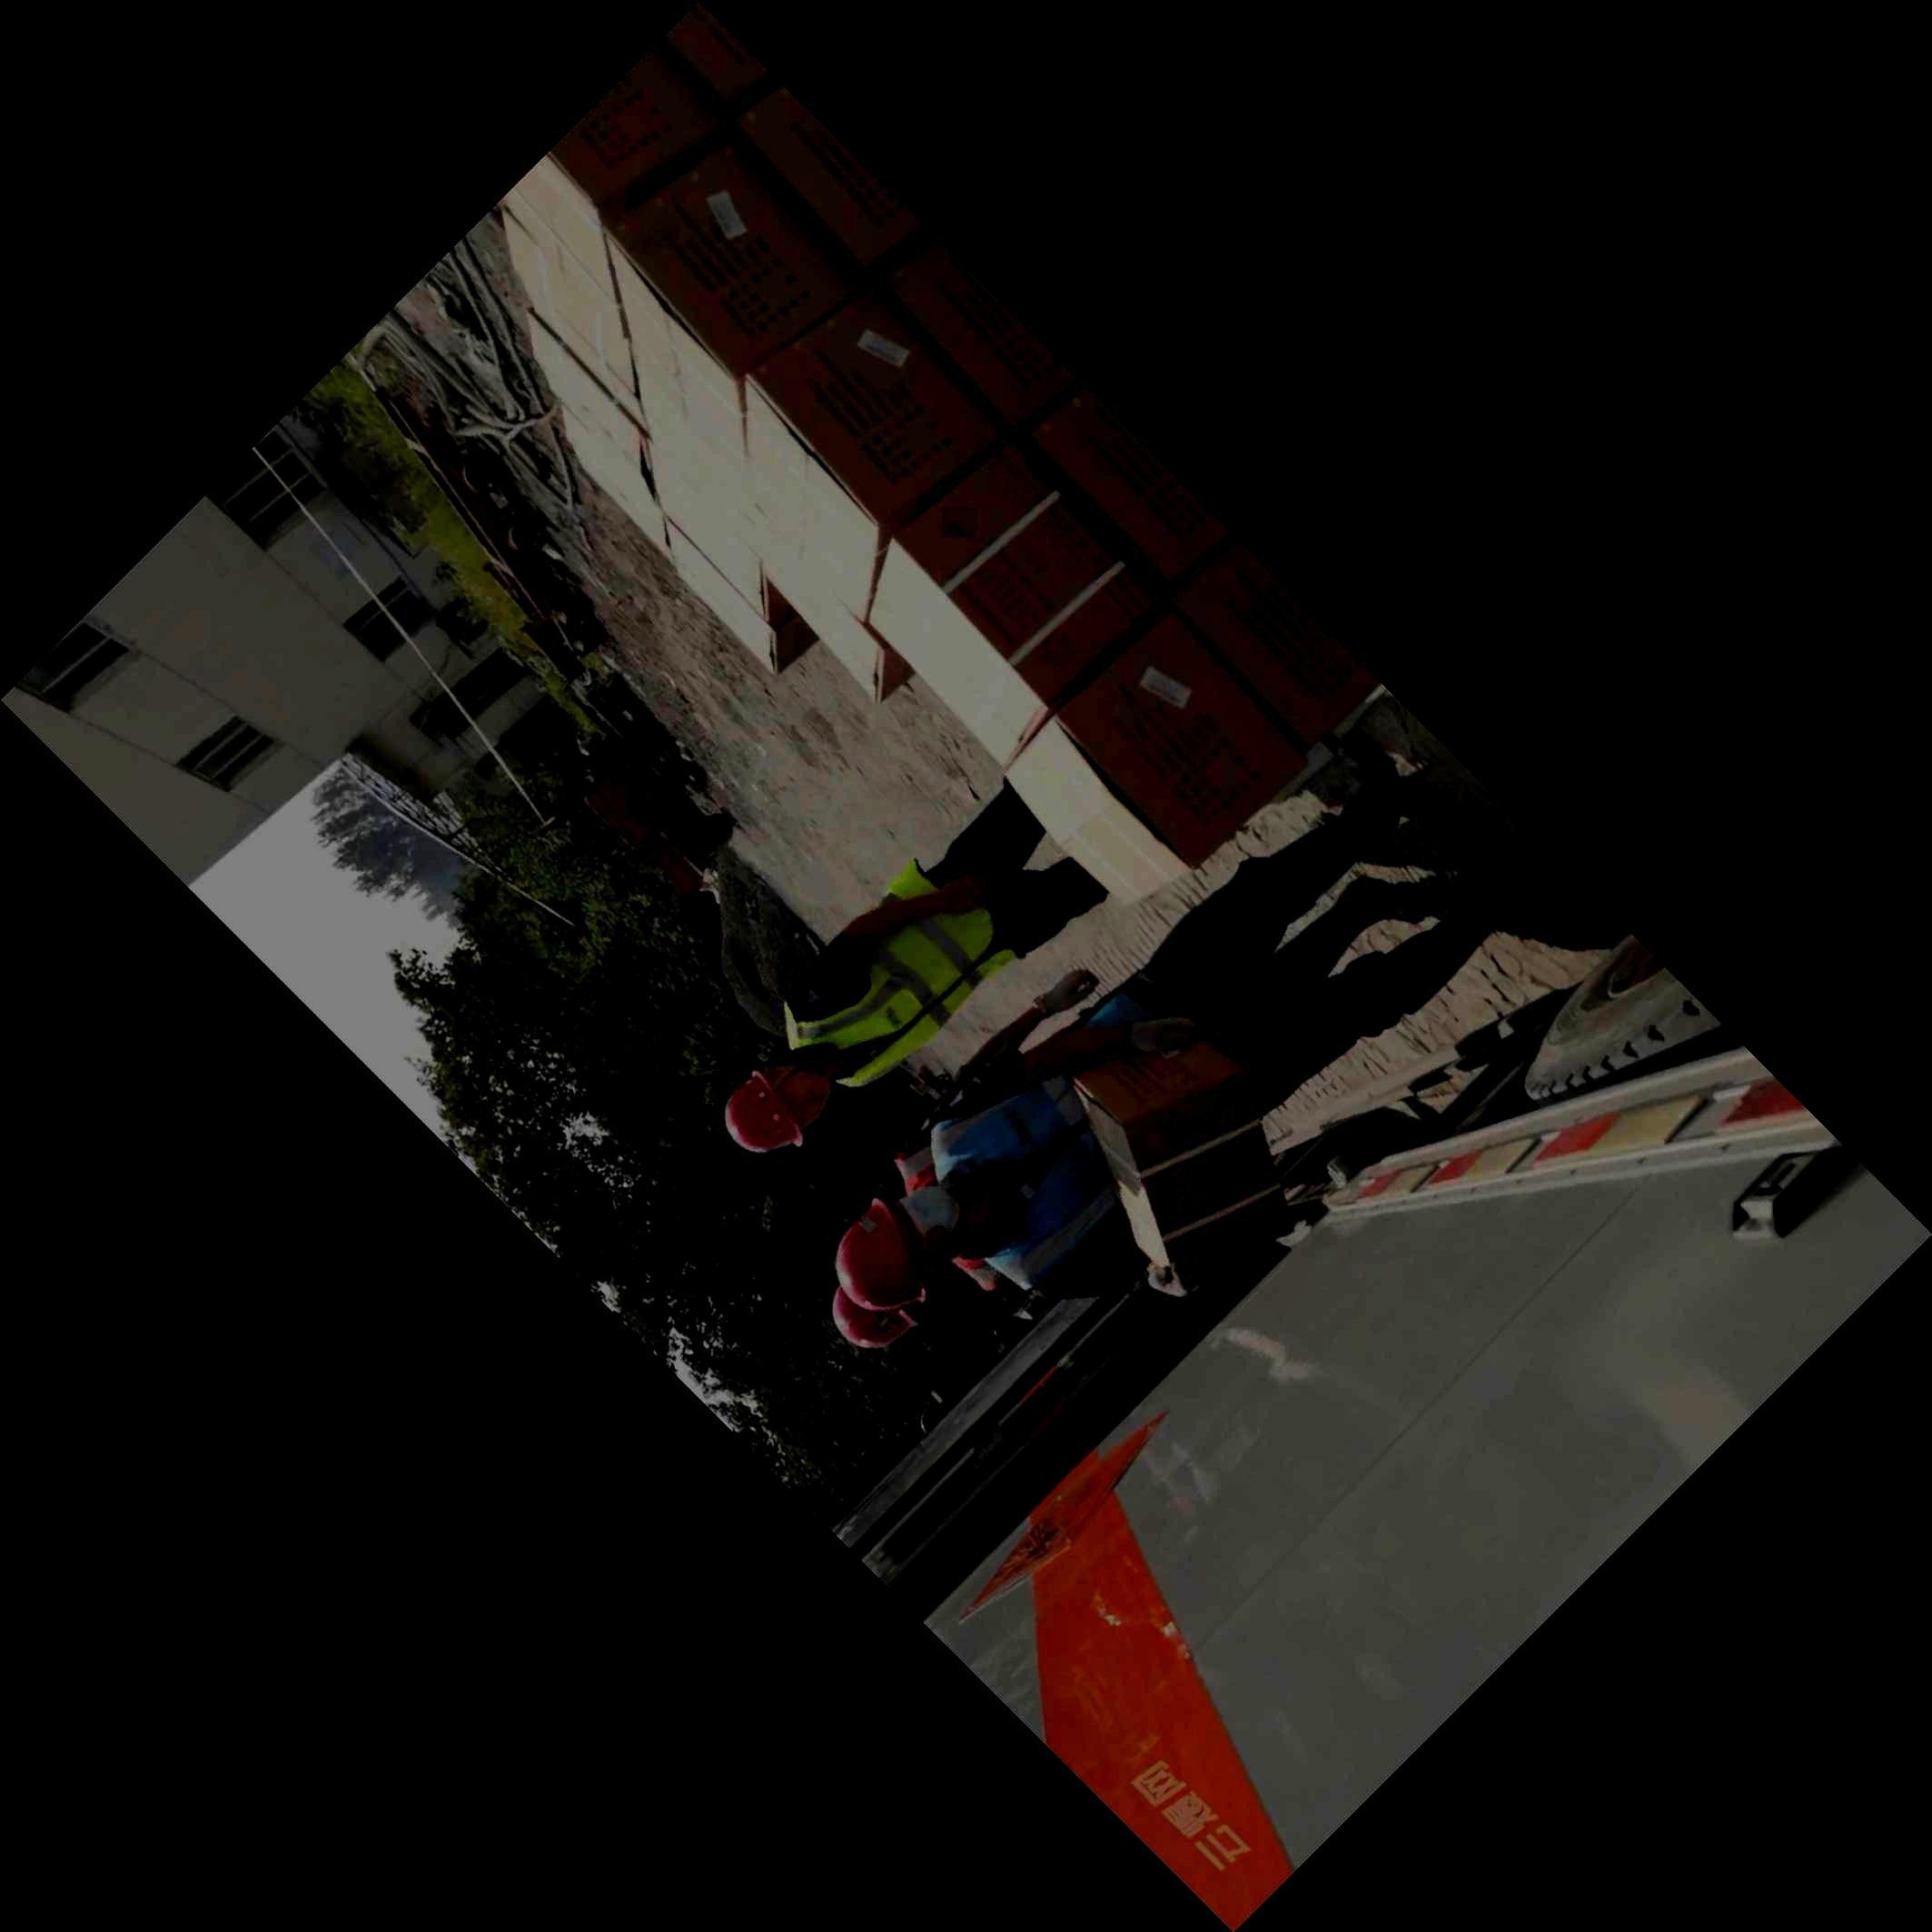helmet: (833, 1184, 962, 1309), (724, 1062, 830, 1154), (832, 1284, 918, 1346)
